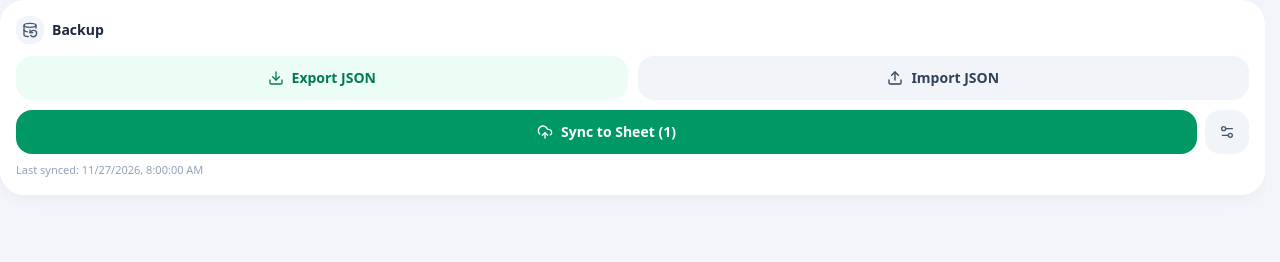
Test: BackupControls Google Sheet Sync › deletes locally removed days on Sheet instead of re-pulling them
The width and height of the screenshot is (1280, 262).
Click the button "Sync to Sheet (1)": (606, 132) x1=16 y1=110 x2=1197 y2=154
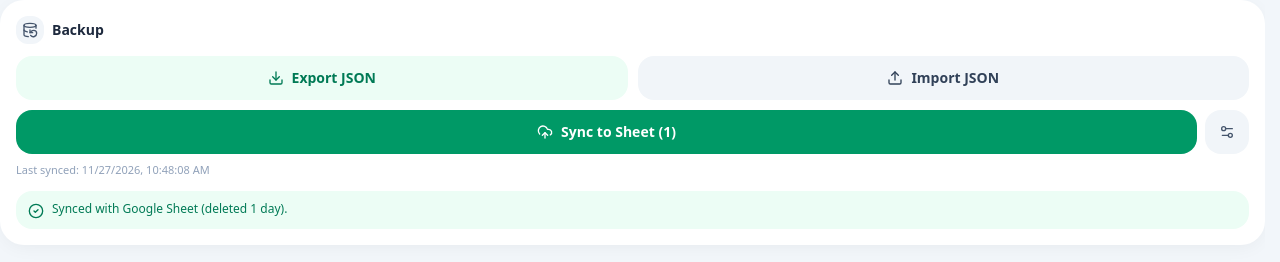
Expected: the message shows "Synced with Google Sheet (deleted 1 day)", x1=52 y1=200 x2=287 y2=216
